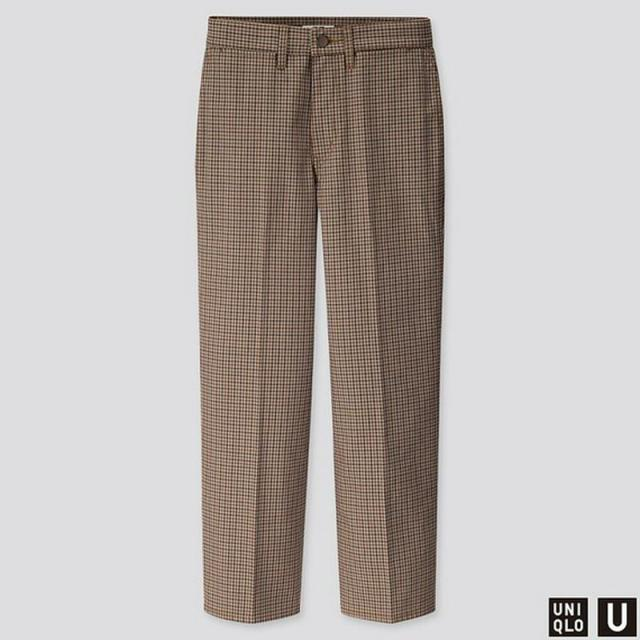long-pants: (196, 17, 447, 627)
